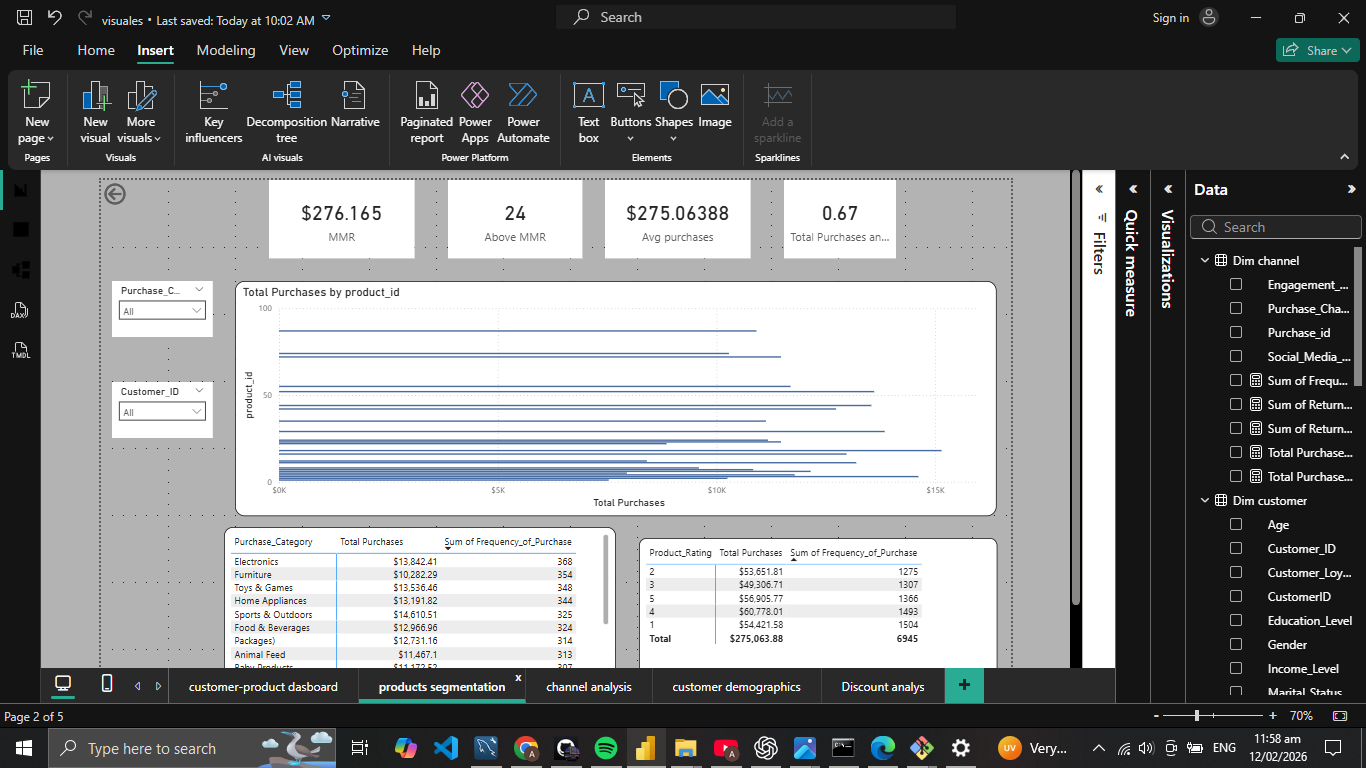

The page's visual inventory and layout, read from the dashboard file:
{"tool":"powerbi","page":{"name":"products segmentation","canvas":[1300,800],"ordinal":1},"visuals":[{"type":"clusteredBarChart","fields":{"Category":["Dim product.product_id"],"Y":["Fact eccomerce.Total Purchases"]},"box":[192,144,1088,336],"z":0},{"type":"card","fields":{"Values":["Fact eccomerce.Avg purchases"]},"box":[720,0,208,112],"z":1000},{"type":"card","fields":{"Values":["Fact eccomerce.MMR"]},"box":[240,0,208,112],"z":2000},{"type":"card","fields":{"Values":["Fact eccomerce.Products Above MMR"]},"box":[496,0,192,112],"z":3000},{"type":"pivotTable","fields":{"Rows":["Dim product.Purchase_Category"],"Values":["Fact eccomerce.Total Purchases","Sum(Fact eccomerce.Frequency_of_Purchase)"]},"box":[176,496,560,288],"z":4000},{"type":"pivotTable","fields":{"Rows":["Fact eccomerce.Product_Rating"],"Values":["Fact eccomerce.Total Purchases","Sum(Fact eccomerce.Frequency_of_Purchase)"]},"box":[768,512,512,288],"z":5000},{"type":"card","fields":{"Values":["Dim channel.Total Purchases and Sum of Frequency_of_Purchase correlation for Dim product.product_id"]},"box":[976,0,160,112],"z":6000},{"type":"actionButton","box":[0,0,100,40],"z":7000},{"type":"actionButton","box":[0,0,100,40],"z":8000},{"type":"slicer","fields":{"Values":["Dim product.Purchase_Category"]},"box":[16,144,144,80],"z":9000},{"type":"slicer","fields":{"Values":["Dim customer.Customer_ID"]},"box":[16,288,144,80],"z":10000}]}

Visuals, with their boxes on the page's 1300x800 design canvas (x1, y1, x2, y2). These are canvas units, not pixel positions in the 1366x768 screenshot, which may show the page scaled, cropped or inside an application window:
clusteredBarChart - Dim product.product_id x Fact eccomerce.Total Purchases: l=192, t=144, r=1280, b=480
card - Fact eccomerce.Avg purchases: l=720, t=0, r=928, b=112
card - Fact eccomerce.MMR: l=240, t=0, r=448, b=112
card - Fact eccomerce.Products Above MMR: l=496, t=0, r=688, b=112
pivotTable - Dim product.Purchase_Category x Fact eccomerce.Total Purchases: l=176, t=496, r=736, b=784
pivotTable - Fact eccomerce.Product_Rating x Fact eccomerce.Total Purchases: l=768, t=512, r=1280, b=800
card - Dim channel.Total Purchases and Sum of Frequency_of_Purchase correlation for Dim product.product_id: l=976, t=0, r=1136, b=112
actionButton: l=0, t=0, r=100, b=40
actionButton: l=0, t=0, r=100, b=40
slicer - Dim product.Purchase_Category: l=16, t=144, r=160, b=224
slicer - Dim customer.Customer_ID: l=16, t=288, r=160, b=368
